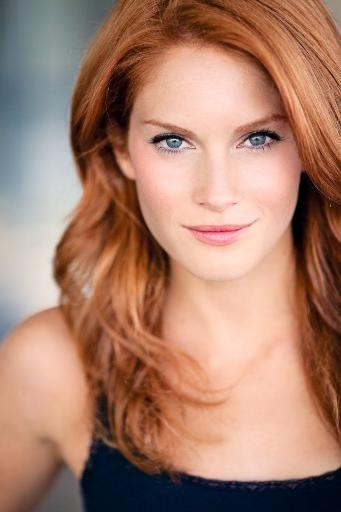left_eye: (235, 129, 284, 154)
left_lip_corner: (247, 217, 262, 234)
right_eye: (151, 135, 199, 159)
right_lip_corner: (182, 222, 196, 240)
